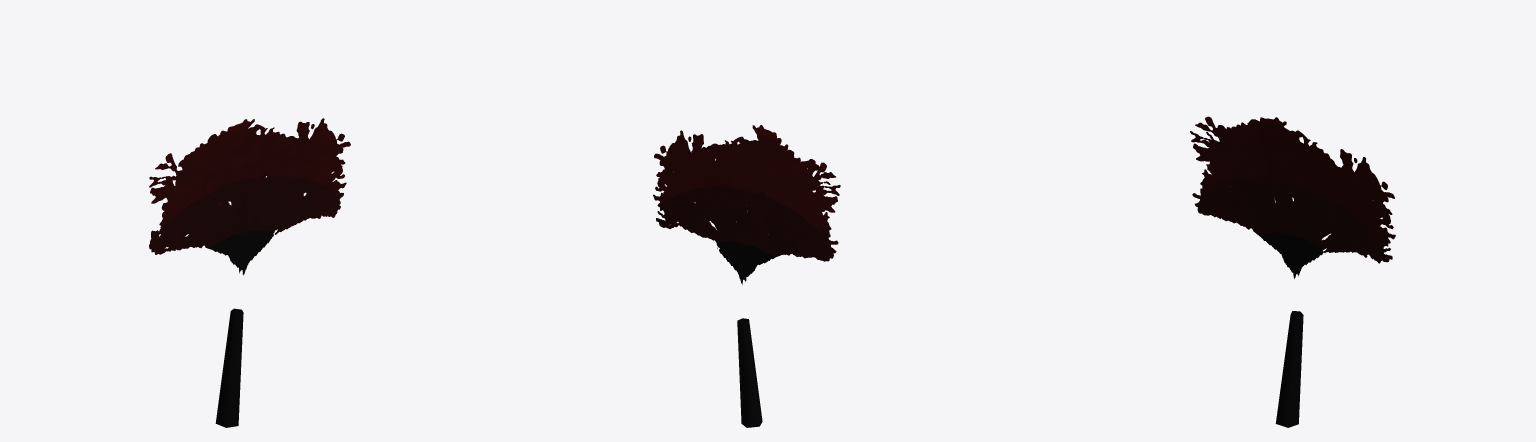
File: plant_shallows_coral_fan_a_lod2.glb
The picture shows the model from 3 angles, left to right: view 1: azimuth 30°, elevation 25°; view 2: azimuth 150°, elevation 25°; view 3: azimuth 330°, elevation 25°; orthographic projection. The views are drawn at different scales.
Parts seen in each view (by area): view 1: plant_shallows_coral_fan_a; view 2: plant_shallows_coral_fan_a; view 3: plant_shallows_coral_fan_a.
Boxes of the visible parts, x1,y1,x2,y2 form: plant_shallows_coral_fan_a: (149, 118, 350, 427); plant_shallows_coral_fan_a: (653, 125, 840, 427); plant_shallows_coral_fan_a: (1190, 116, 1395, 427).
Bounding box in the file's own units: 0.7483 × 0.6034 × 0.086.
Materials: 1 (1 with a texture image).
